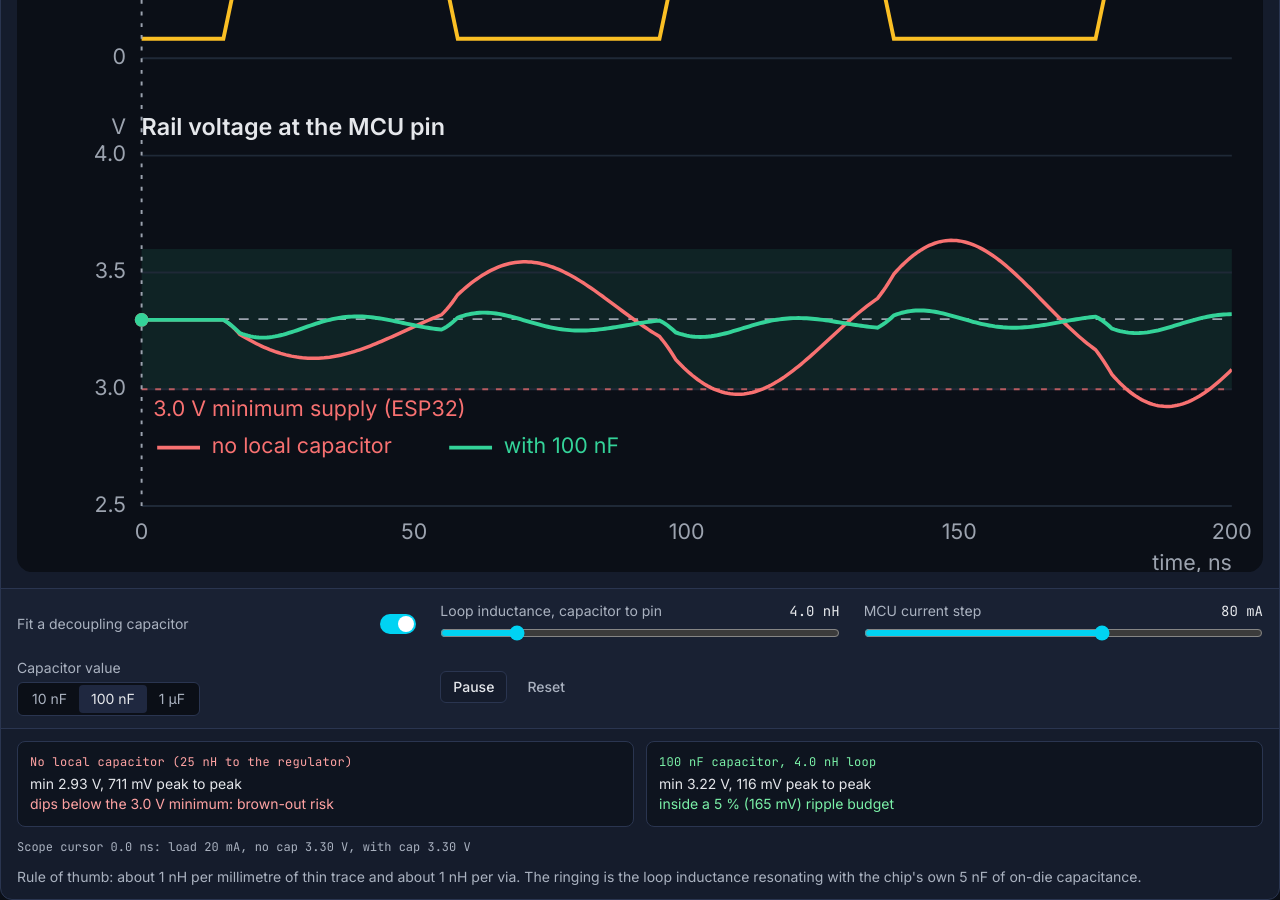
Test: DecouplingDemo › compares against the bare rail and can remove the capacitor
(page scrolled)
Click the switch labelled "Fit a decoupling capacitor". click: (103, 623)
box: [17,601,416,646]
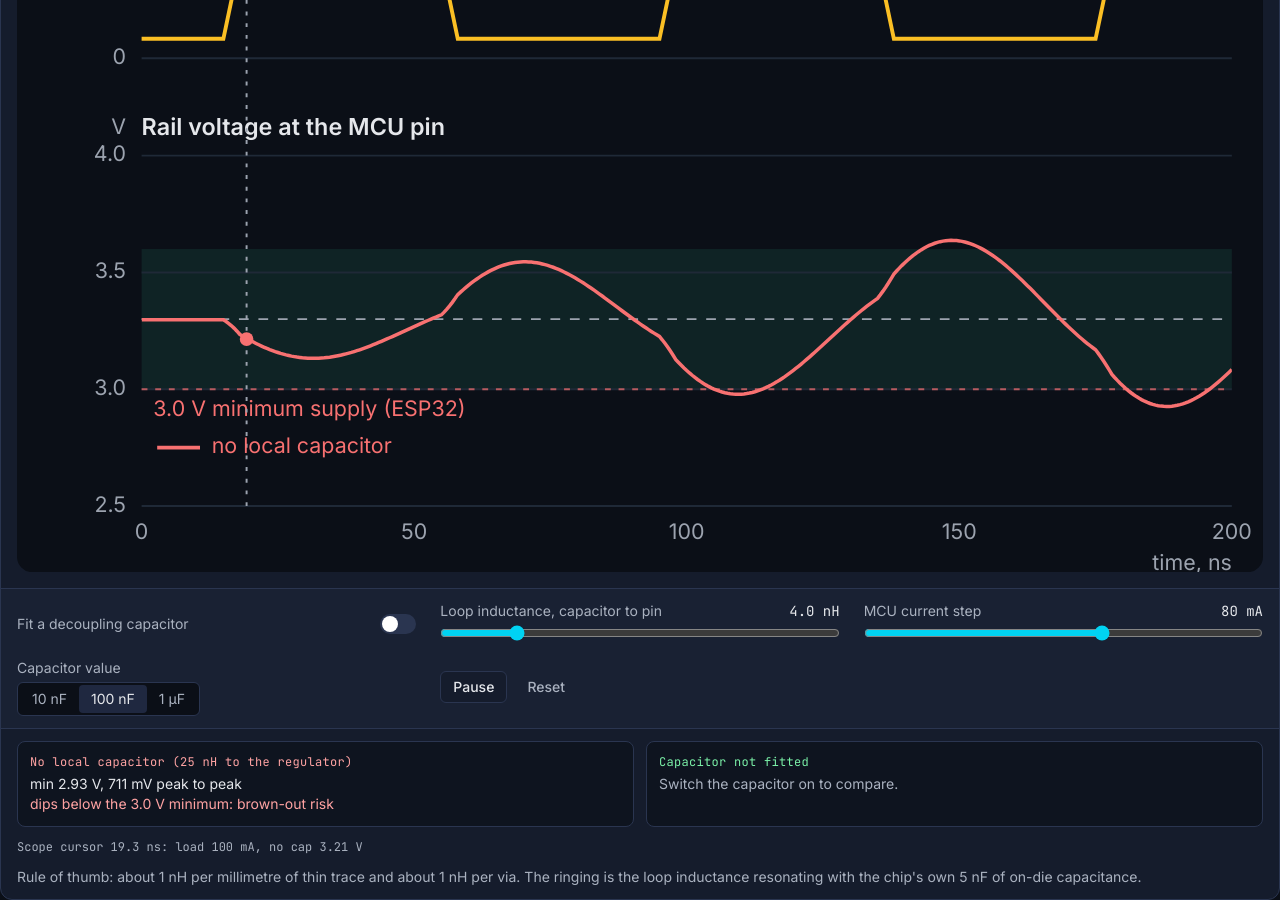
Expected: the text with test id "decoupled-readout" is gone
Expected: the text "Capacitor not fitted" is shown, [659,754,809,770]
